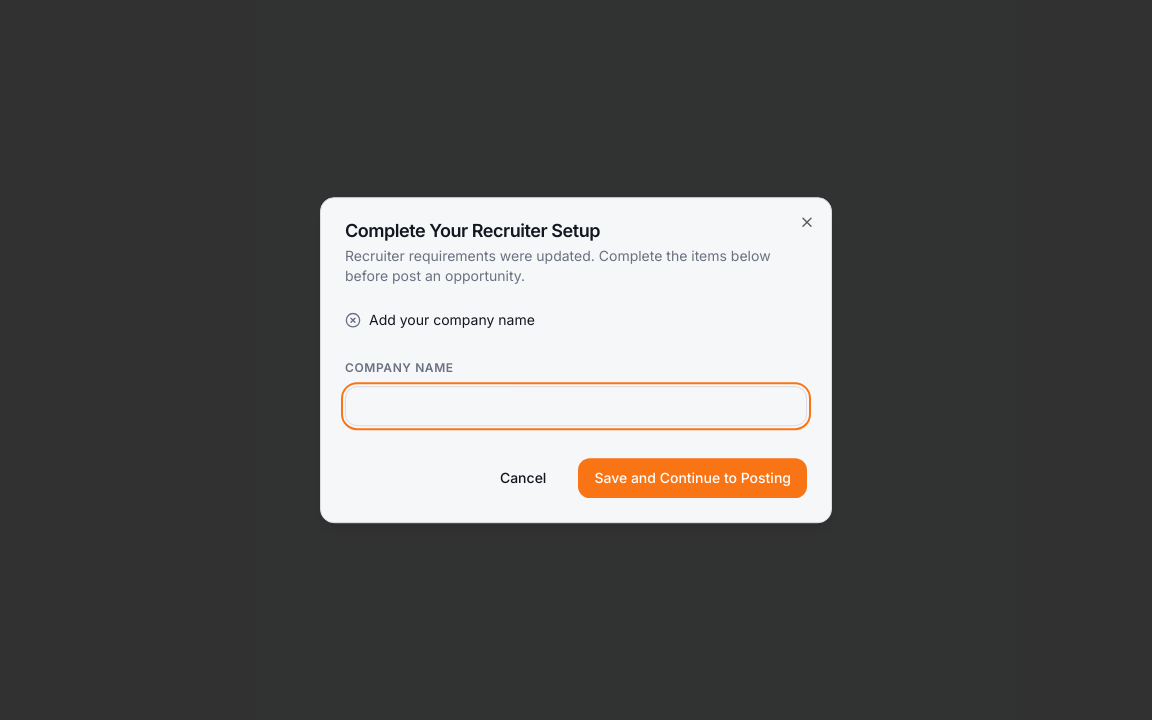
it: Phase 1P-A4 — Legacy recruiter inline readiness dialog › still-incomplete refetch keeps the dialog open with the canonical reason surfaced
The image size is (1152, 720).
Type "Acme" into the field with test id "rr-company-name" at x=576, y=406, box [345, 386, 807, 426]
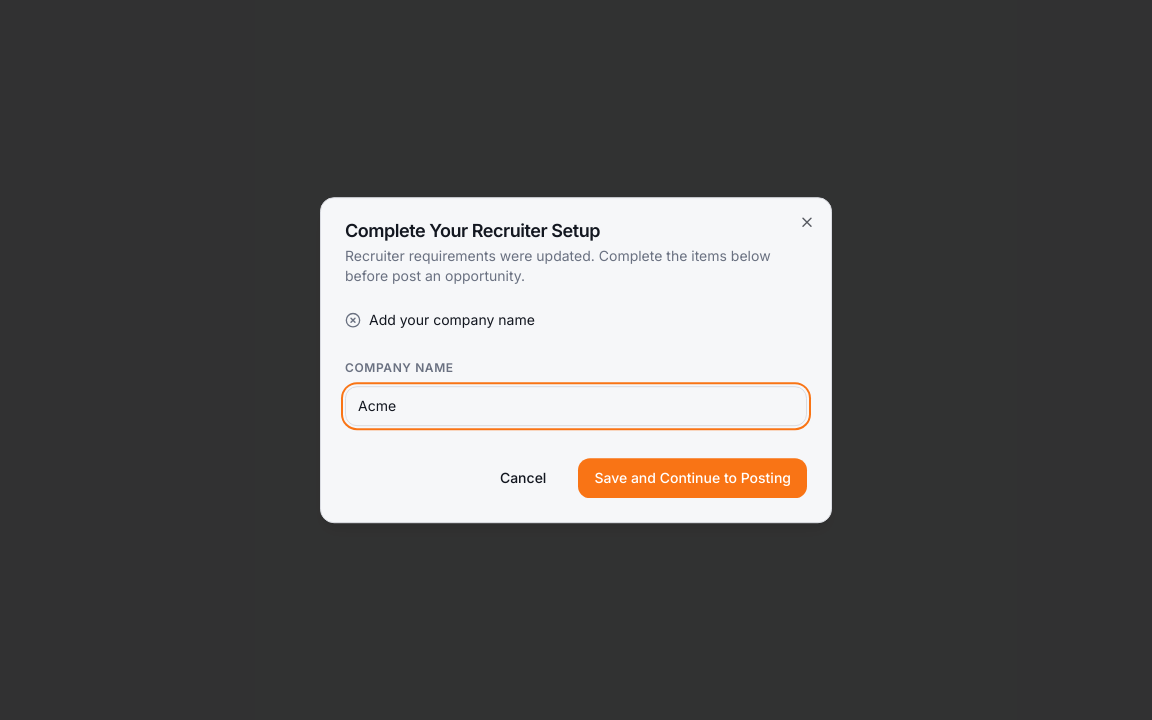
Click the button with test id "readiness-dialog-primary" at x=693, y=478, box [578, 458, 807, 498]
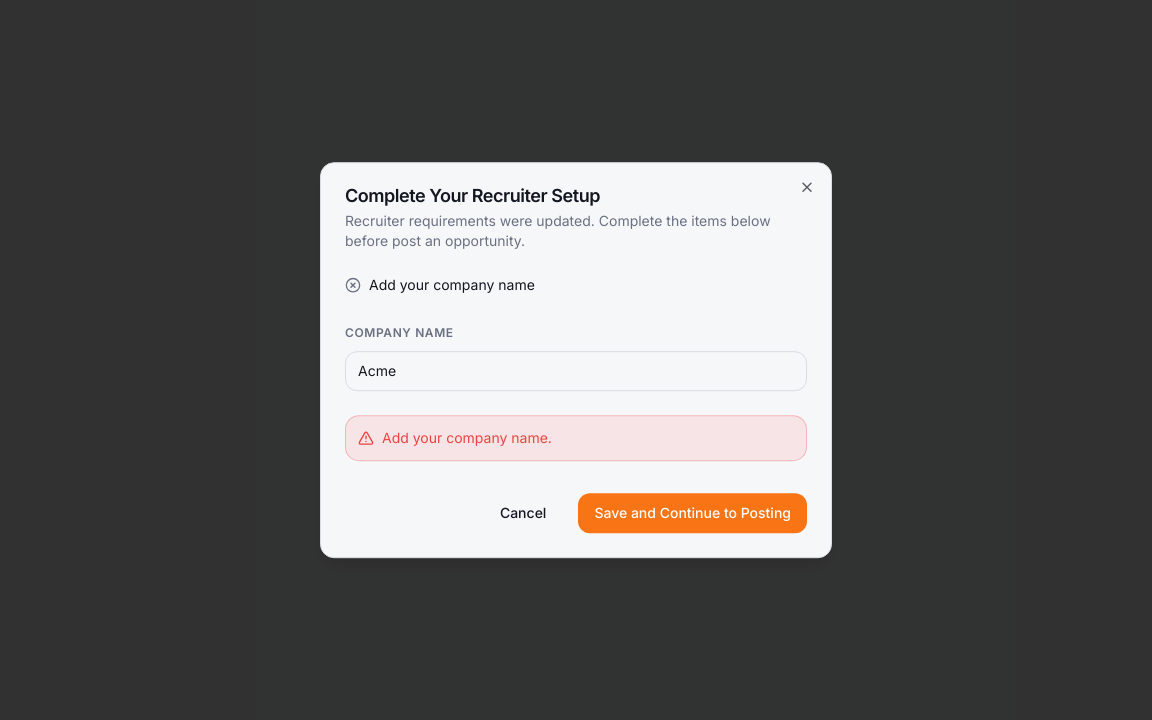
Result: the element with test id "readiness-error" is shown at [345, 415, 807, 461]
